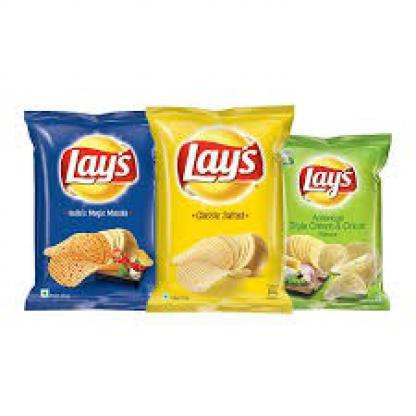classicsalted: (142, 104, 294, 313)
cream_and_onion: (288, 132, 394, 313)
indian_magic_masala: (24, 107, 152, 311)
